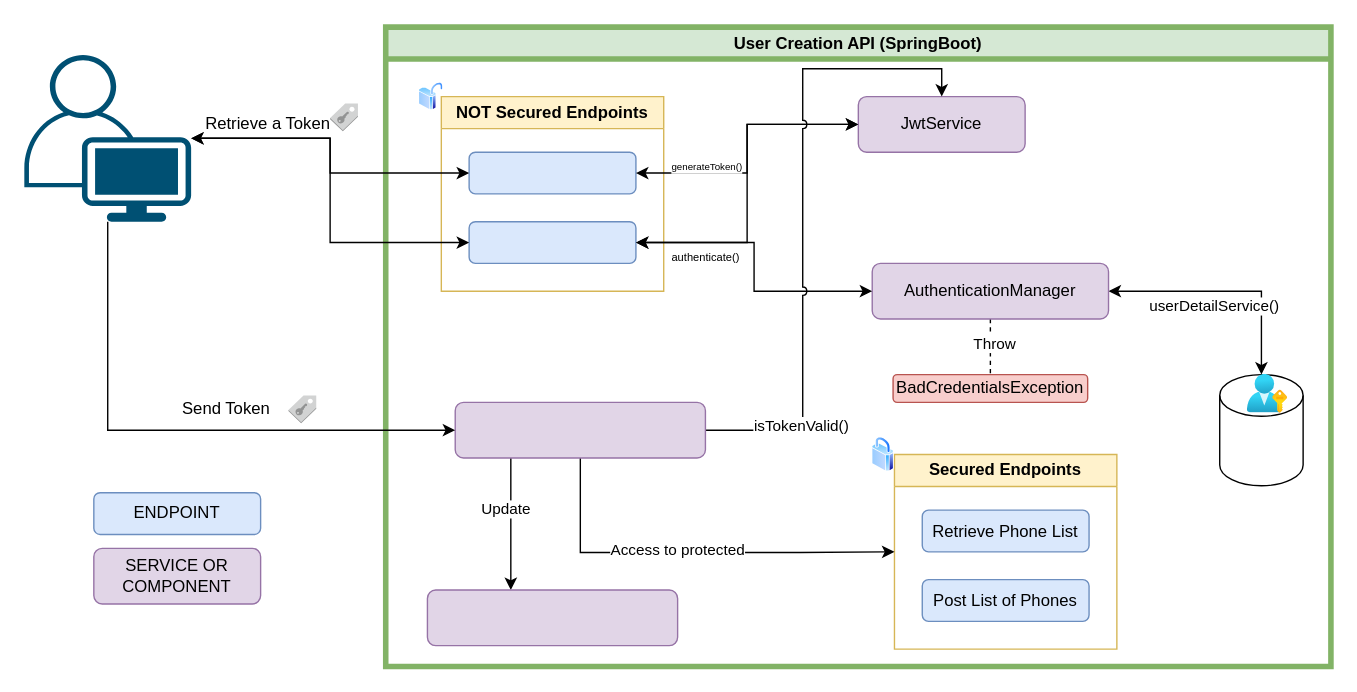
Some shapes in this 1357 by 692 pixel diagram are drawn without their labels. Each missing label, with the box of its shape:
Authenticate User: (468, 220, 636, 263)
Create User: (468, 151, 636, 194)
JwtAuthenticationFilter: (454, 401, 705, 458)
SecurityContextHolder: (426, 589, 678, 646)
User Database: (1218, 373, 1303, 486)
